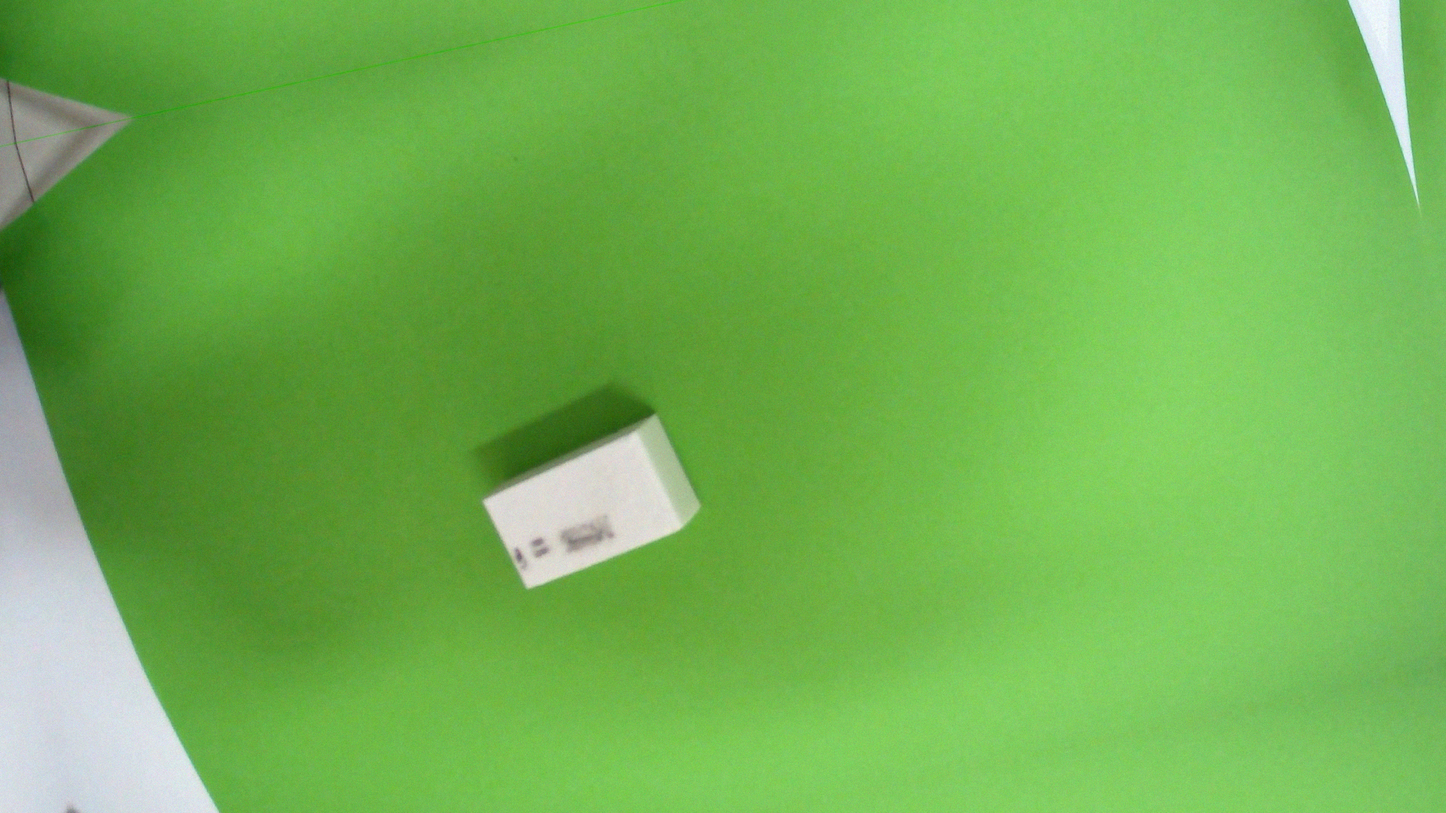gom: (473, 401, 709, 601)
